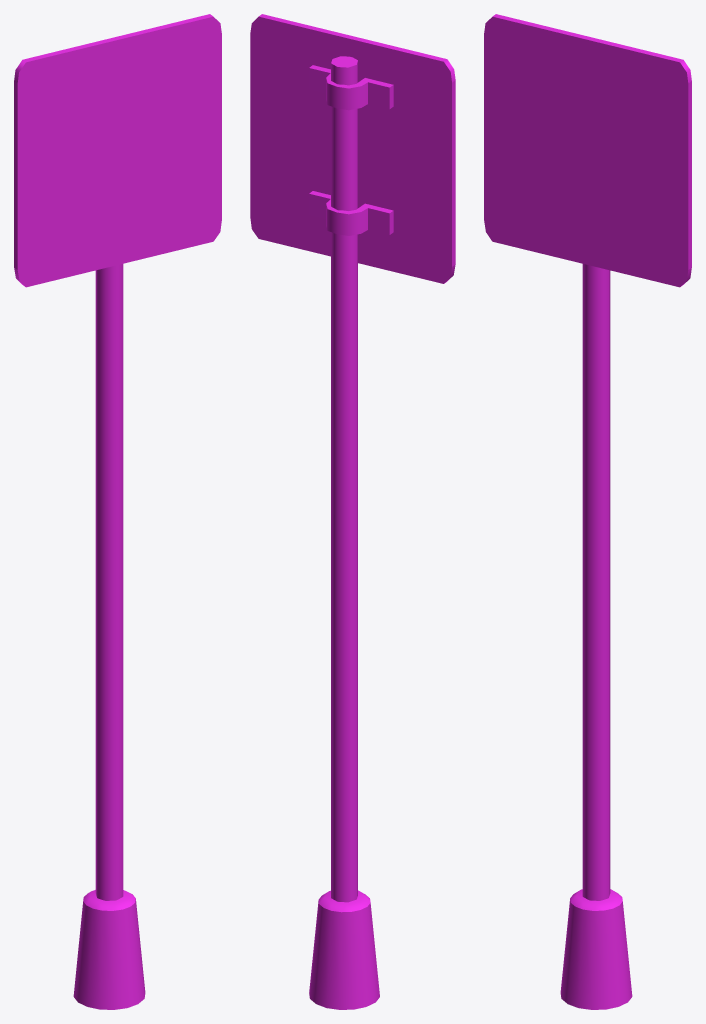
The model's file is SM_Sign_Bus.FBX.
The picture shows the model from 3 angles, left to right: view 1: azimuth 30°, elevation 25°; view 2: azimuth 150°, elevation 25°; view 3: azimuth 330°, elevation 25°; orthographic projection.
Parts seen in each view (by area): view 1: Sign_Bus; view 2: Sign_Bus; view 3: Sign_Bus.
Part boxes in pixels (<box>): Sign_Bus: <box>14,14,221,1009</box>; Sign_Bus: <box>250,14,455,1009</box>; Sign_Bus: <box>484,14,691,1009</box>.
Bounding box in the file's own units: 68.91 × 310 × 21.24.
